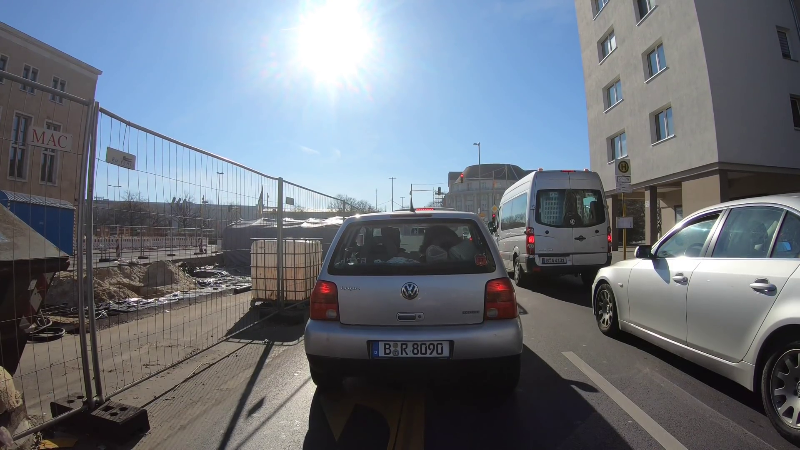Plate: (368, 337, 452, 359), (539, 255, 571, 267)
